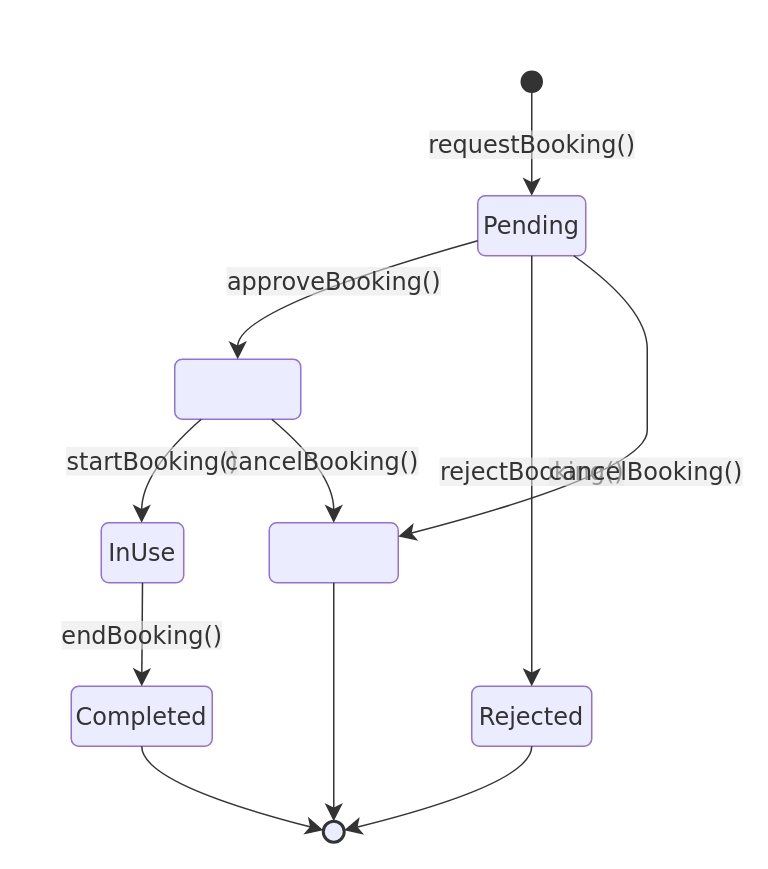
The diagram is 768 pixels wide and 869 high, and some of its shapes have lost their labels. The shapes that lost their labels are listed below. From the top down, each one's centre as x and y in pixels, then its label:
At point (237, 388): "Approved".
At point (333, 552): "Cancelled".
